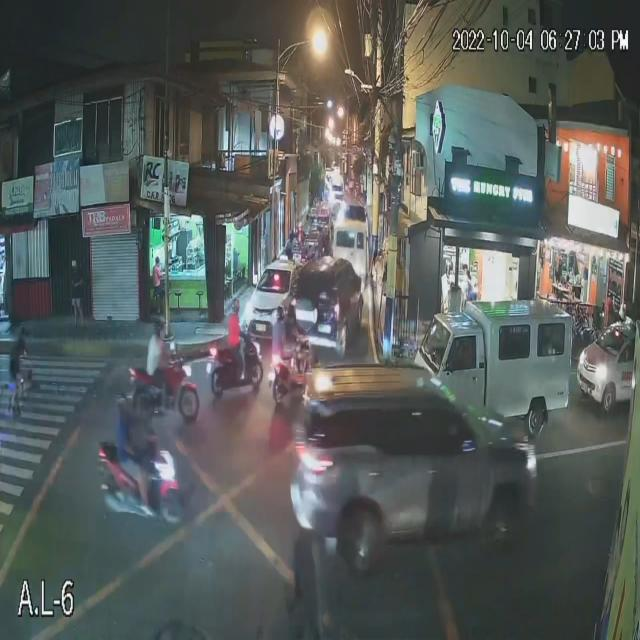Full-Faced: (116, 386, 132, 415), (152, 312, 167, 340), (284, 303, 298, 325), (274, 302, 286, 326), (230, 296, 240, 316)
